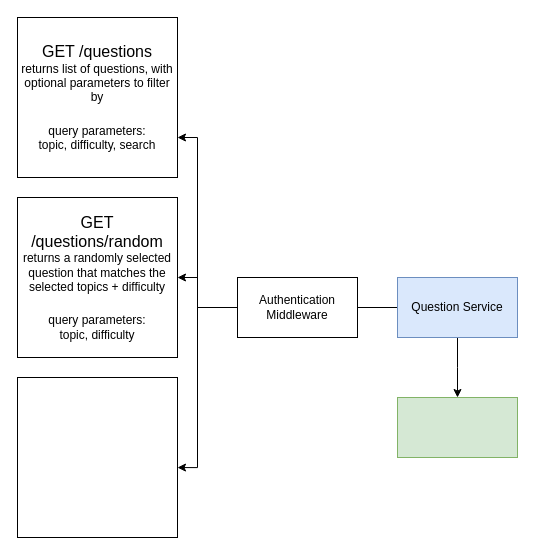
Image size: 535x555. Some labels were removed from this diagram. The centre of each missing label's shape, as x and y in pixels:
GET /questions/:id returns the question by id url parameters: id: [97,457]
MongoDB: [457,427]
